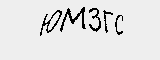Г: (102, 7, 115, 34)
З: (86, 2, 105, 40)
М: (57, 4, 88, 32)
С: (112, 11, 125, 37)
Ю: (36, 9, 62, 39)
